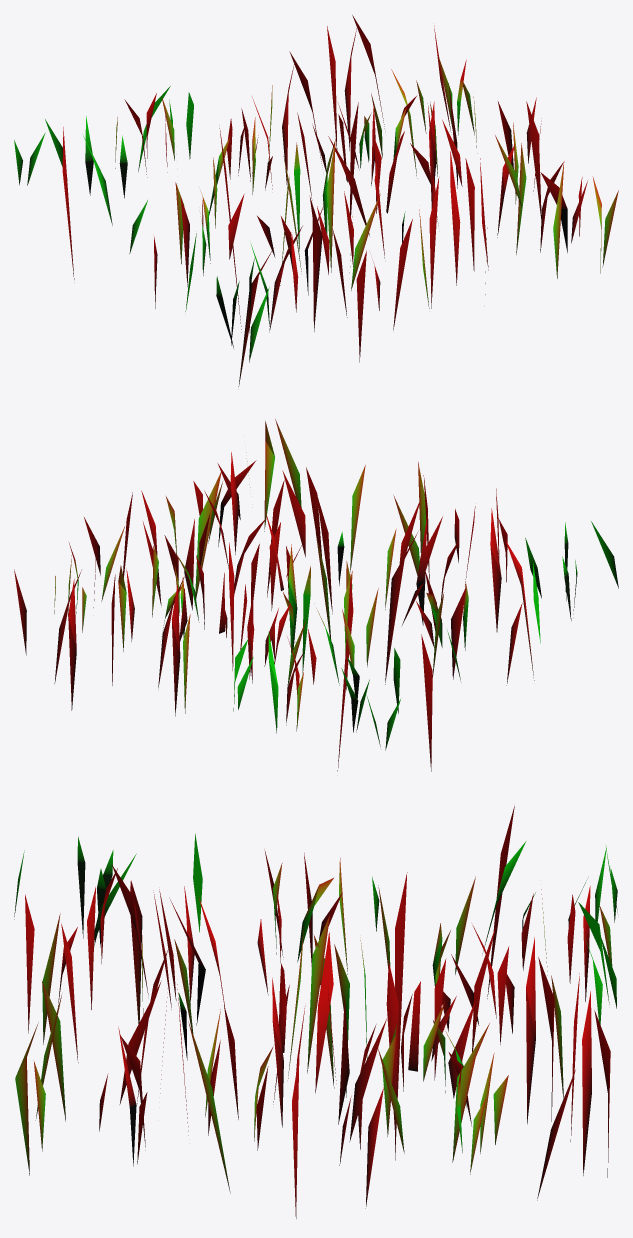
Rendered from mesh_dsj_grass_lod5.fbx.
3 renders of one model, top to bottom at view 1: azimuth 30°, elevation 25°; view 2: azimuth 150°, elevation 25°; view 3: azimuth 270°, elevation 25°, orthographic. The views are drawn at different scales.
Visible parts, largest first — view 1: mesh_dsj_grass_lod05; view 2: mesh_dsj_grass_lod05; view 3: mesh_dsj_grass_lod05.
Boxes of the visible parts, box(x1,y1,x2,y2) form: mesh_dsj_grass_lod05: box(14, 15, 618, 386); mesh_dsj_grass_lod05: box(14, 419, 618, 771); mesh_dsj_grass_lod05: box(14, 806, 618, 1218).
Size of the model in its own units: 3.49 by 1.78 by 3.35.
